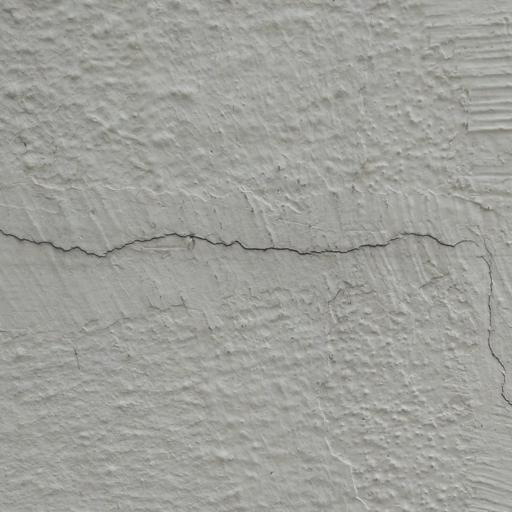minor_crack: (0, 174, 512, 269), (464, 242, 512, 412)
